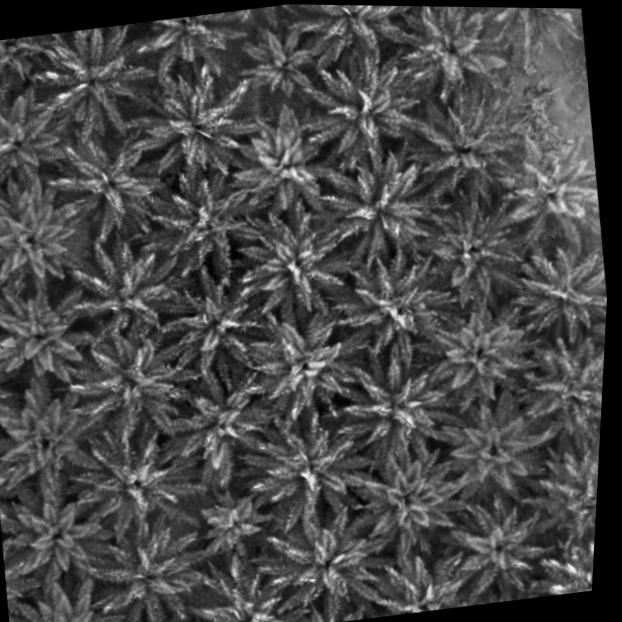oilpalm: (327, 244, 460, 384), (56, 226, 192, 362), (230, 305, 361, 443), (318, 139, 444, 271), (303, 44, 431, 169), (65, 329, 201, 445), (240, 412, 373, 529), (44, 128, 170, 250), (219, 114, 347, 233), (133, 78, 261, 196), (226, 210, 353, 328), (27, 22, 155, 139), (259, 504, 384, 622), (346, 443, 472, 560), (73, 427, 202, 541), (430, 396, 552, 513), (334, 351, 456, 463), (421, 297, 542, 407), (85, 515, 209, 622), (495, 132, 607, 248), (440, 496, 559, 603), (161, 371, 275, 482), (2, 484, 112, 591), (157, 275, 267, 381), (403, 100, 515, 204), (414, 201, 525, 304), (177, 480, 290, 580), (147, 176, 256, 278), (225, 21, 335, 120), (0, 395, 106, 496), (516, 329, 605, 443), (0, 285, 97, 388), (402, 6, 503, 103), (513, 238, 610, 339), (0, 184, 85, 293), (0, 87, 75, 201), (364, 550, 478, 619), (188, 557, 306, 622), (531, 444, 599, 550), (306, 5, 404, 58), (473, 7, 580, 53), (7, 580, 122, 622)
